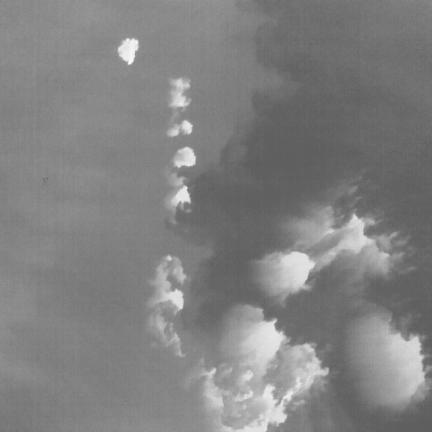flukeprints: (377, 330, 425, 408), (236, 321, 284, 370), (281, 251, 314, 290), (169, 78, 190, 111), (117, 38, 138, 64), (162, 289, 183, 314), (173, 147, 195, 168), (171, 185, 190, 207), (180, 120, 192, 134)
